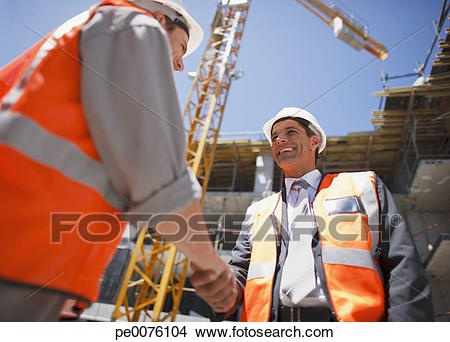white: (130, 1, 200, 74), (266, 106, 323, 169)
